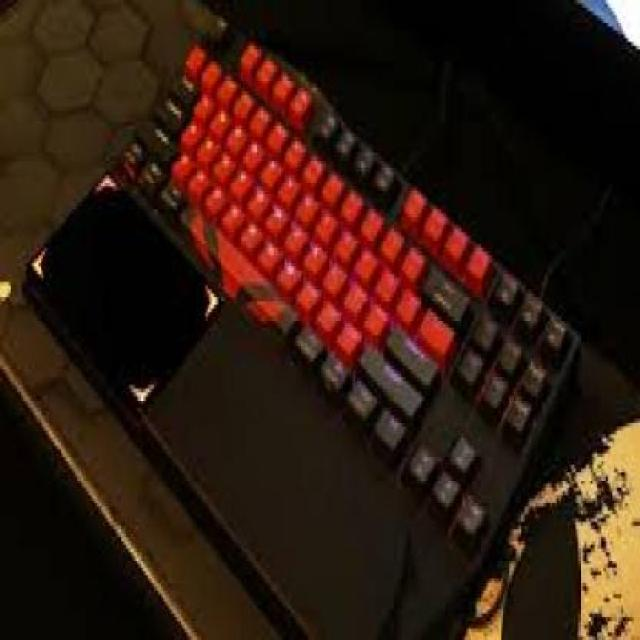keyboard: (23, 12, 580, 640)
